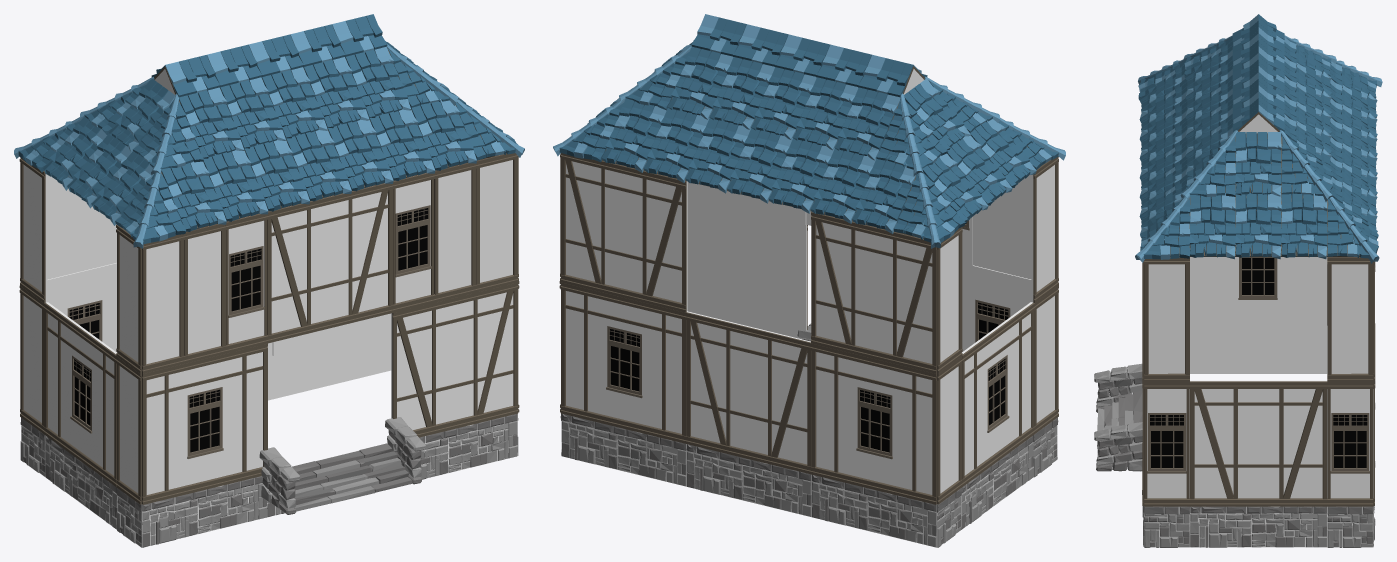
The model's file is House_13_parts.fbx.
3 views of the same model, side by side, from view 1: azimuth 30°, elevation 25°; view 2: azimuth 150°, elevation 25°; view 3: azimuth 270°, elevation 25° (orthographic). The views are drawn at different scales.
Visible parts, largest first — view 1: WALL_02_7, WINDOW_03_2, WALL_02_2, WINDOW_03_3, STAIRS_02_2, WALL_03_10, WALL_03_9, WALL_03_12, WALL_03_11, WINDOW_04_5, WINDOW_04_6, FOUNDATION_02_26 (+39 smaller); view 2: WALL_02_4, WALL_02_6, WALL_02_5, WINDOW_03_5, WINDOW_03_4, WALL_02_2, WINDOW_03_3, FOUNDATION_02_29, FOUNDATION_02_30, FOUNDATION_02_28, WINDOW_03_2, WALL_03_6 (+36 smaller); view 3: WALL_02_3, WINDOW_03_3, WALL_03_8, WINDOW_04_4, FOUNDATION_02_31, WINDOW_04_3, WALL_03_7, FOUNDATION_02_27, STAIRS_02_2, ROOF_base_33, ROOF_base_17, ROOF_base_34 (+48 smaller).
Boxes of the visible parts, x1=… form: WALL_02_7: x1=267, y1=183, x2=393, y2=343; WINDOW_03_2: x1=142, y1=343, x2=267, y2=504; WALL_02_2: x1=391, y1=282, x2=518, y2=437; WINDOW_03_3: x1=43, y1=302, x2=117, y2=486; STAIRS_02_2: x1=259, y1=417, x2=425, y2=514; WALL_03_10: x1=434, y1=163, x2=476, y2=302; WALL_03_9: x1=476, y1=153, x2=518, y2=292; WALL_03_12: x1=142, y1=234, x2=184, y2=373; WALL_03_11: x1=184, y1=224, x2=226, y2=363; WINDOW_04_5: x1=225, y1=213, x2=267, y2=353; WINDOW_04_6: x1=392, y1=173, x2=434, y2=312; FOUNDATION_02_26: x1=142, y1=476, x2=267, y2=547; WALL_02_4: x1=685, y1=311, x2=811, y2=474; WALL_02_6: x1=560, y1=153, x2=687, y2=312; WALL_02_5: x1=811, y1=212, x2=936, y2=373; WINDOW_03_5: x1=560, y1=282, x2=686, y2=443; WINDOW_03_4: x1=811, y1=343, x2=936, y2=504; WALL_02_2: x1=687, y1=196, x2=807, y2=339; WINDOW_03_3: x1=961, y1=302, x2=1034, y2=486; FOUNDATION_02_29: x1=686, y1=444, x2=811, y2=517; FOUNDATION_02_30: x1=561, y1=413, x2=686, y2=486; FOUNDATION_02_28: x1=812, y1=474, x2=937, y2=547; WINDOW_03_2: x1=961, y1=263, x2=1031, y2=352; WALL_03_6: x1=1031, y1=156, x2=1058, y2=302; WALL_02_3: x1=1190, y1=380, x2=1327, y2=506; WINDOW_03_3: x1=1190, y1=257, x2=1327, y2=332; WALL_03_8: x1=1327, y1=257, x2=1373, y2=382; WINDOW_04_4: x1=1327, y1=382, x2=1373, y2=506; FOUNDATION_02_31: x1=1190, y1=506, x2=1327, y2=547; WINDOW_04_3: x1=1144, y1=382, x2=1189, y2=506; WALL_03_7: x1=1144, y1=257, x2=1189, y2=382; FOUNDATION_02_27: x1=1190, y1=333, x2=1327, y2=373; STAIRS_02_2: x1=1094, y1=363, x2=1142, y2=471; ROOF_base_33: x1=1235, y1=193, x2=1281, y2=259; ROOF_base_17: x1=1281, y1=193, x2=1327, y2=259; ROOF_base_34: x1=1235, y1=132, x2=1281, y2=196.
Size of the model in its own units: 941 by 959 by 629.
